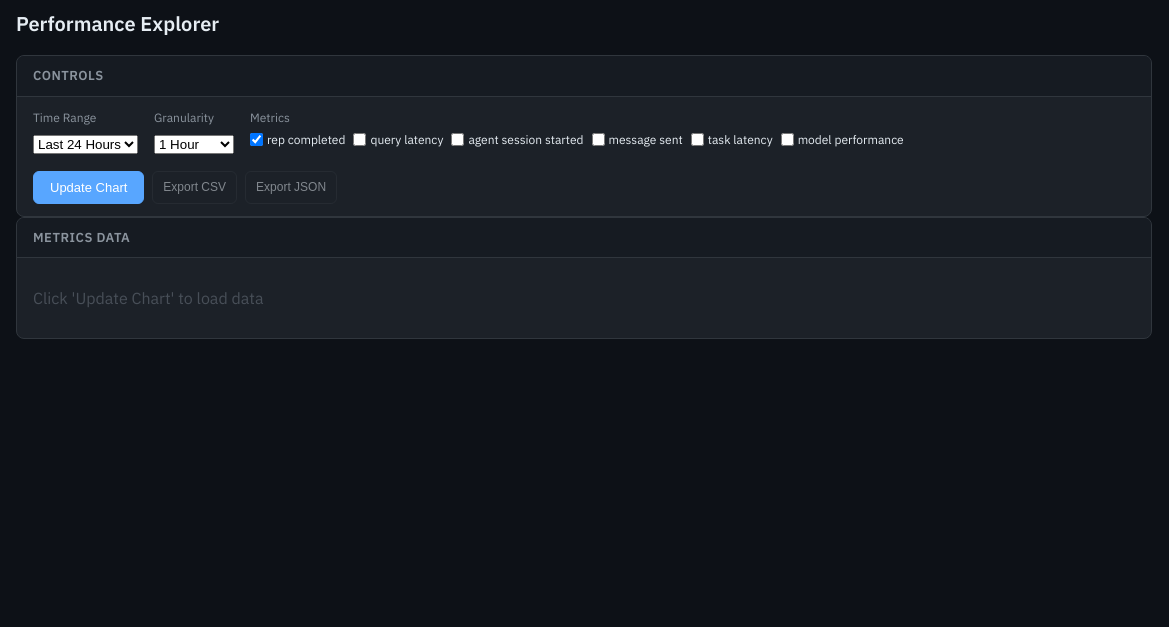
Test case: PerformanceExplorer › enables export buttons when data is available
This screenshot has width=1169, height=627.
Click the button "Update Chart": x=89, y=187 [33,170,144,204]
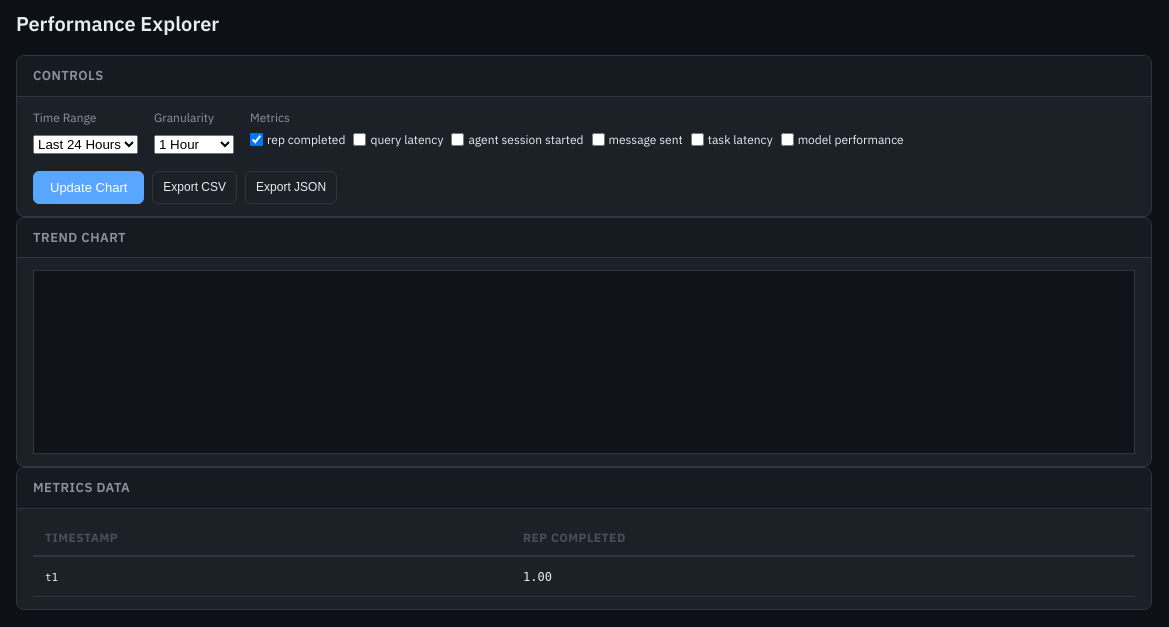
Result: the button "Export CSV" is enabled at [152,170,237,204]
Result: the button "Export JSON" is enabled at [245,170,337,204]
